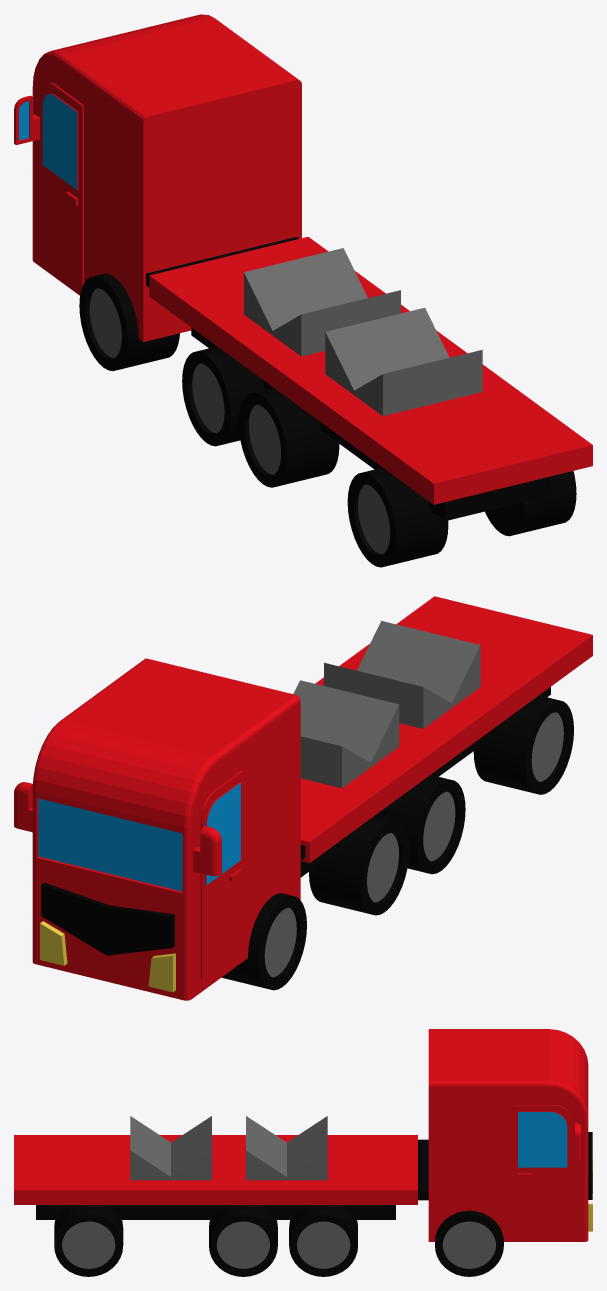
The model's file is truck2.fbx.
The picture shows the model from 3 angles, top to bottom: view 1: azimuth 30°, elevation 25°; view 2: azimuth 150°, elevation 25°; view 3: azimuth 270°, elevation 25°; orthographic projection. The views are drawn at different scales.
Parts seen in each view (by area): view 1: Cube.003, Cube.002, Cube.001, Cube, Cylinder.009, Cylinder.008, Cylinder.004, Cylinder.005, Cylinder.010; view 2: Cube.003, Cube.002, Cube.001, Cube, Cylinder.009, Cylinder.005, Cylinder.008, Cylinder.004; view 3: Cube.003, Cube.002, Cylinder.010, Cube, Cube.001, Cylinder.007, Cylinder.006, Cylinder.003.
Boxes of the visible parts, box(x1,y1,x2,y2) form: Cube.003: box(14, 14, 301, 341); Cube.002: box(146, 236, 592, 520); Cube.001: box(325, 307, 482, 416); Cube: box(244, 248, 400, 356); Cylinder.009: box(347, 467, 448, 567); Cylinder.008: box(238, 388, 339, 487); Cylinder.004: box(79, 273, 179, 370); Cylinder.005: box(182, 346, 265, 446); Cylinder.010: box(485, 471, 576, 536); Cube.003: box(14, 658, 300, 1000); Cube.002: box(300, 596, 592, 877); Cube.001: box(324, 621, 480, 728); Cube: box(293, 680, 399, 788); Cylinder.009: box(473, 695, 573, 794); Cylinder.005: box(309, 816, 409, 915); Cylinder.008: box(383, 775, 465, 874); Cylinder.004: box(222, 893, 306, 990); Cube.003: box(428, 1029, 592, 1241); Cube.002: box(14, 1135, 428, 1219); Cylinder.010: box(54, 1205, 123, 1276); Cube: box(246, 1116, 327, 1180); Cube.001: box(130, 1116, 211, 1180); Cylinder.007: box(209, 1205, 277, 1276); Cylinder.006: box(289, 1205, 357, 1276); Cylinder.003: box(435, 1210, 503, 1276).
Size of the model in its own units: 445 by 552 by 1519.
